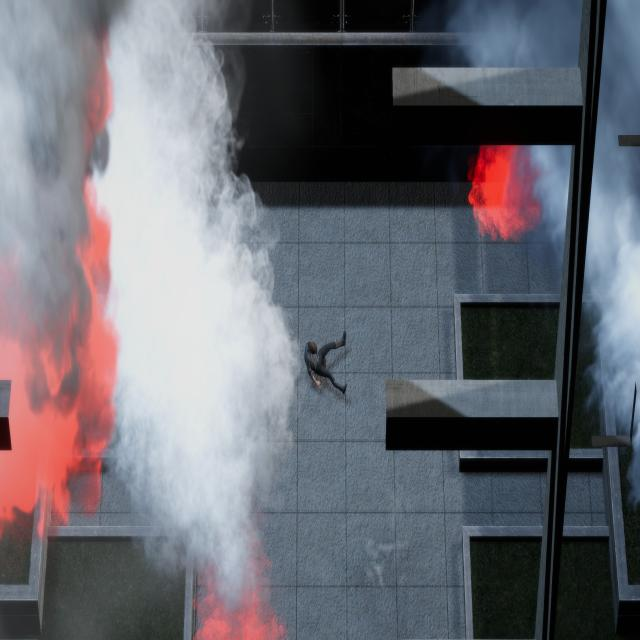Human: (289, 319, 355, 408)
